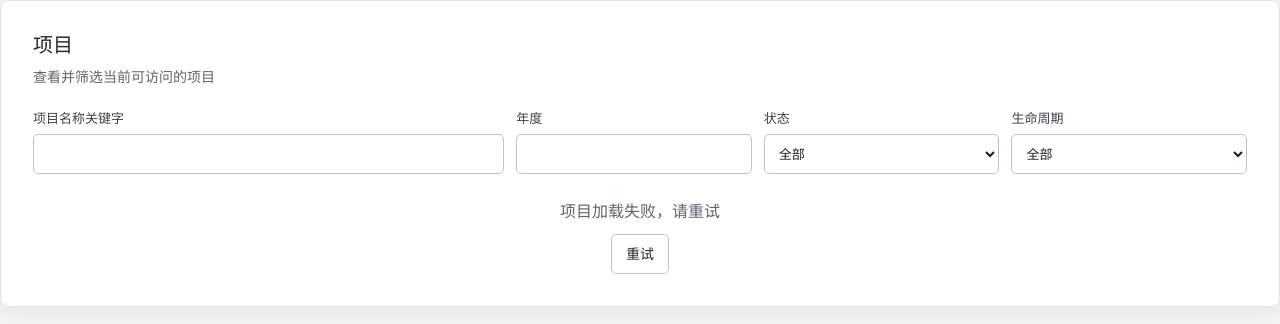
Scenario: ProjectListView › offers retry after a network failure
Check: the message shows "项目加载失败，请重试", box [560,201,720,221]
Click the button "重试" at {"x": 640, "y": 254}, box [611,234,669,274]
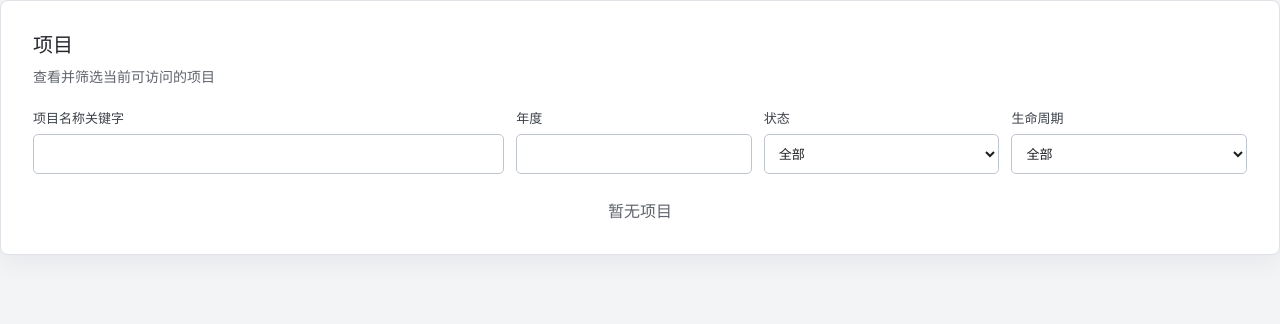
Check: the text "暂无项目" is shown, box [608,201,672,221]
